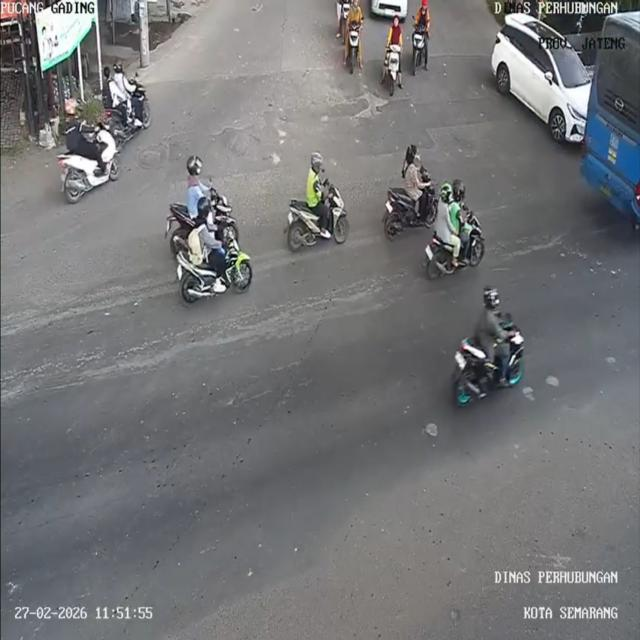motorcycle: (450, 320, 525, 409), (175, 246, 256, 305), (58, 127, 124, 195), (284, 190, 349, 254), (382, 171, 438, 243), (429, 215, 489, 269), (168, 190, 235, 235), (109, 85, 154, 144), (383, 43, 408, 94), (408, 20, 429, 75), (345, 16, 363, 76), (336, 0, 351, 33)
person: (474, 285, 508, 353), (192, 202, 220, 264), (62, 101, 95, 150), (401, 145, 427, 202), (184, 154, 208, 210), (305, 152, 327, 209), (450, 178, 469, 232), (435, 185, 454, 238), (387, 14, 407, 55), (103, 66, 120, 108), (114, 60, 132, 94), (414, 0, 435, 27), (348, 0, 363, 25)
rider_region: (451, 284, 525, 410), (169, 200, 254, 304), (165, 153, 240, 254), (53, 98, 122, 204), (282, 149, 351, 254), (422, 180, 487, 282), (379, 144, 437, 241), (100, 60, 154, 142), (380, 15, 406, 99), (343, 0, 365, 75), (409, 0, 430, 76)
